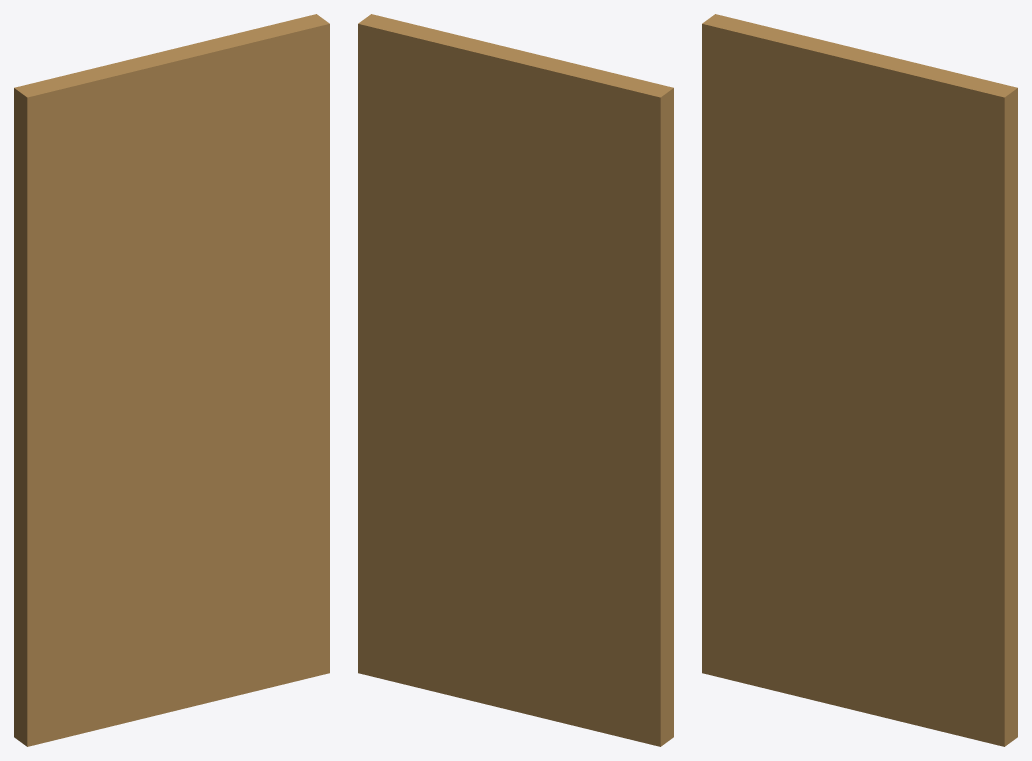
3 renders of one model, left to right at view 1: azimuth 30°, elevation 25°; view 2: azimuth 150°, elevation 25°; view 3: azimuth 330°, elevation 25°, orthographic.
Visible parts, largest first — view 1: FF-W067; view 2: FF-W067; view 3: FF-W067.
Boxes of the visible parts, x1=… form: FF-W067: x1=14, y1=14, x2=329, y2=746; FF-W067: x1=358, y1=14, x2=673, y2=746; FF-W067: x1=702, y1=14, x2=1017, y2=746.
Bounding box in the file's own units: 1.18 × 2.42 × 0.09.
